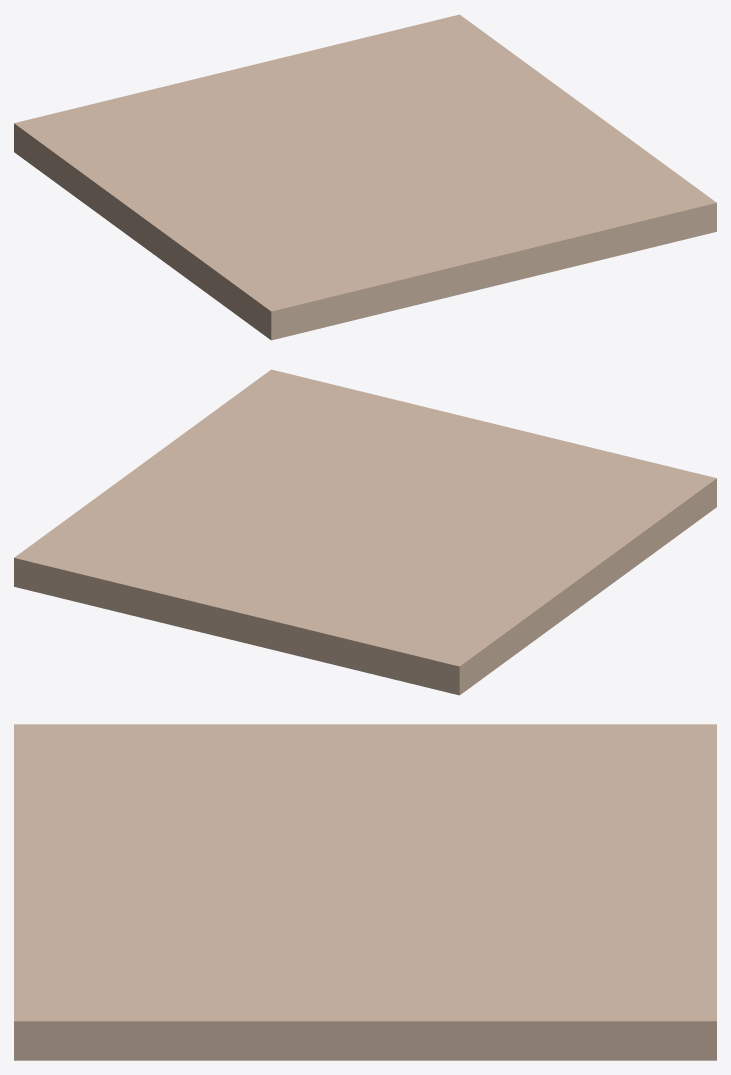
Rendered from BC_InsideceilingDeco_A.fbx.
3 views of the same model, one above another, from view 1: azimuth 30°, elevation 25°; view 2: azimuth 150°, elevation 25°; view 3: azimuth 270°, elevation 25° (orthographic). The views are drawn at different scales.
Visible parts, largest first — view 1: BC_InsideceilingDeco_A; view 2: BC_InsideceilingDeco_A; view 3: BC_InsideceilingDeco_A.
Boxes of the visible parts, x1=… form: BC_InsideceilingDeco_A: x1=14, y1=14, x2=716, y2=340; BC_InsideceilingDeco_A: x1=14, y1=369, x2=716, y2=695; BC_InsideceilingDeco_A: x1=14, y1=724, x2=716, y2=1060.
Bounding box in the file's own units: 1399 × 86.75 × 1399.
